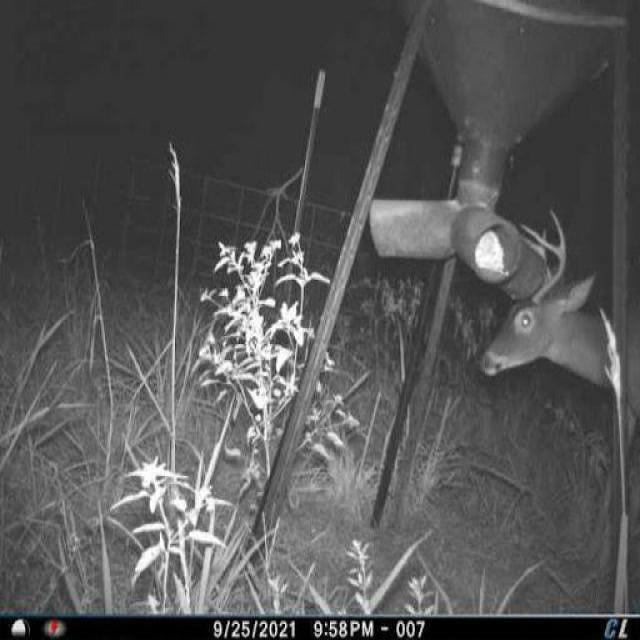deer: (467, 200, 640, 429)
